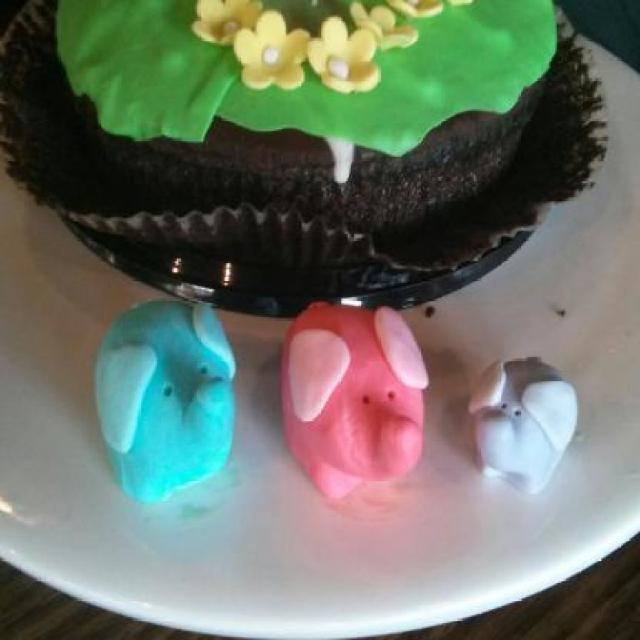Muffin: (19, 0, 630, 309)
